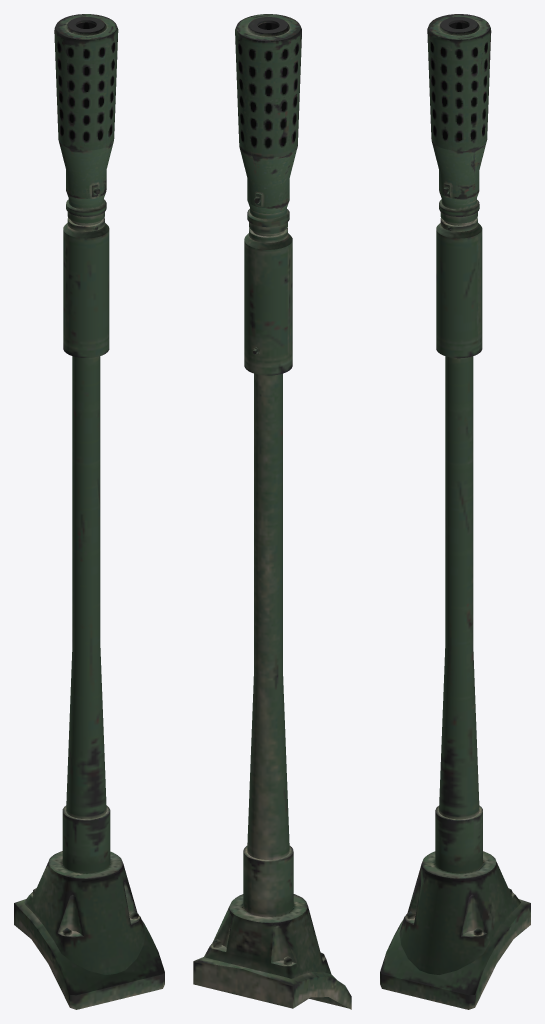
File: Gun_04.glb
3 views of the same model, side by side, from view 1: azimuth 30°, elevation 25°; view 2: azimuth 150°, elevation 25°; view 3: azimuth 330°, elevation 25° (orthographic). The views are drawn at different scales.
Visible parts, largest first — view 1: set_0_group_0; view 2: set_0_group_0; view 3: set_0_group_0.
Part boxes in pixels (x1,y1,x2,y2): set_0_group_0: [14, 14, 164, 1009]; set_0_group_0: [193, 14, 351, 1009]; set_0_group_0: [380, 14, 530, 1009].
Size of the model in its own units: 0.397 by 3.8 by 0.4208.
1 material, 1 textured.
